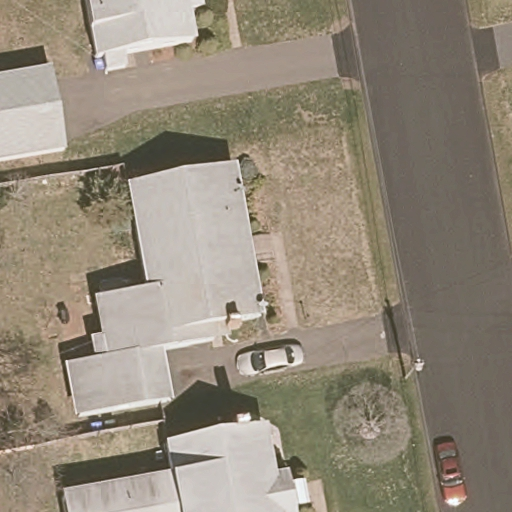DT: (403, 357, 425, 383)
